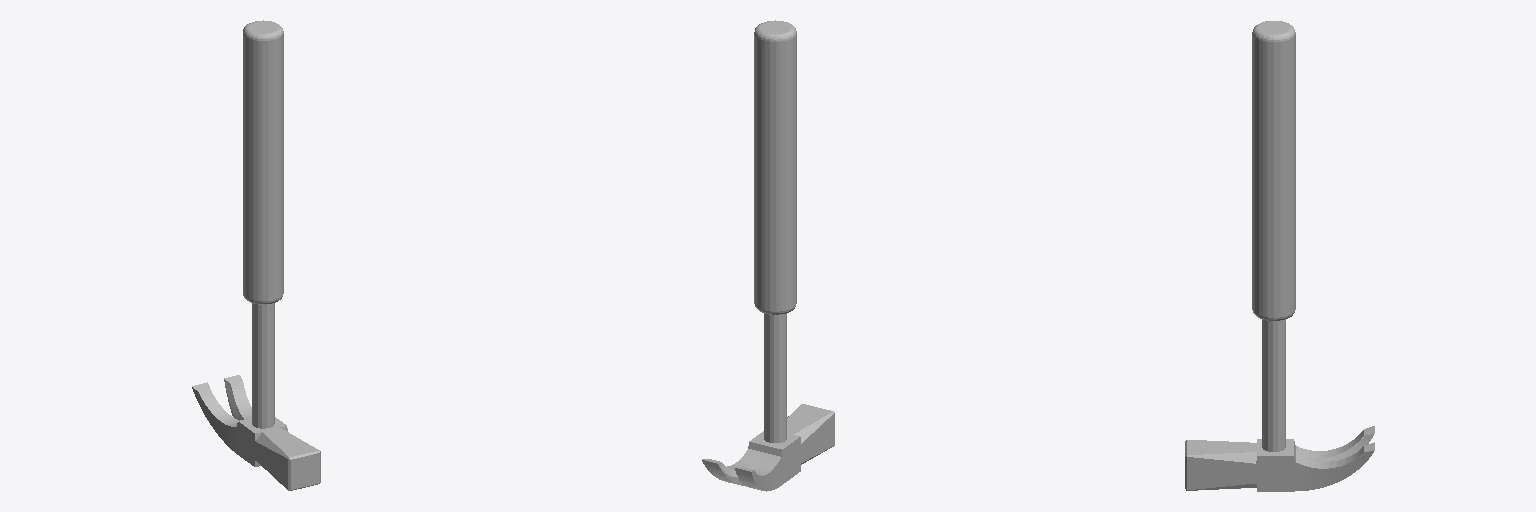
URDF robot description (hammer_description):
<?xml version="1.0" encoding="utf-8"?>
<!-- This URDF was automatically created by SolidWorks to URDF Exporter! Originally created by [author] ([email redacted]) 
     Commit Version: 1.6.0-4-g7f85cfe  Build Version: 1.6.7995.38578
     For more information, please see http://wiki.ros.org/sw_urdf_exporter -->
<robot
  name="hammer_description">
  <link
    name="base_link">
    <inertial>
      <origin
        xyz="5.87814149057009E-08 -0.00373943952625764 -0.204711899231881"
        rpy="0 0 0" />
      <mass
        value="0.373204534702099" />
      <inertia
        ixx="0.000361241119434807"
        ixy="3.78490835386894E-10"
        ixz="7.94626960804098E-11"
        iyy="0.000238172704883444"
        iyz="-1.84459384765409E-06"
        izz="0.000144778352990432" />
    </inertial>
    <visual>
      <origin
        xyz="0 0 0"
        rpy="0 0 0" />
      <geometry>
        <mesh
          filename="meshes/base_link.STL" />
      </geometry>
      <material
        name="">
        <color
          rgba="0.752941176470588 0.752941176470588 0.752941176470588 1" />
      </material>
    </visual>
    <collision>
      <origin
        xyz="0 0 0"
        rpy="0 0 0" />
      <geometry>
        <mesh
          filename="meshes/base_link.STL" />
      </geometry>
    </collision>
  </link>
</robot>

--- Facts derived from the render (not from the file) ---
Views: 3 orthographic renders of the robot side by side, from view 1: azimuth 30°, elevation 25°; view 2: azimuth 150°, elevation 25°; view 3: azimuth 270°, elevation 25°.
Model hammer_description with 1 links and 0 joints (none), rooted at base_link, posed every joint at zero.
Visible links, largest first — view 1: base_link; view 2: base_link; view 3: base_link.
Link boxes in pixels (x1,y1,x2,y2): base_link: [192, 20, 320, 490]; base_link: [702, 20, 834, 491]; base_link: [1185, 21, 1374, 491].
Bounding box of the posed robot: 0.03 × 0.096 × 0.2545 m (x, y, z).
1 mesh visuals loaded from 1 distinct referenced files (1 binary STL).